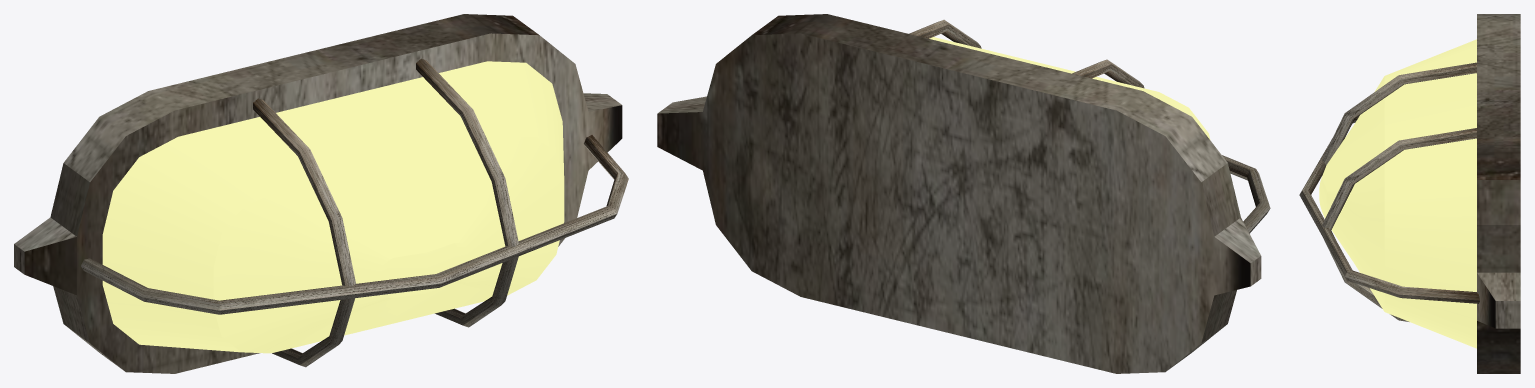
The model's file is luz_pared.fbx.
3 views of the same model, side by side, from view 1: azimuth 30°, elevation 25°; view 2: azimuth 150°, elevation 25°; view 3: azimuth 270°, elevation 25° (orthographic). The views are drawn at different scales.
Visible parts, largest first — view 1: luz, soporte_luz; view 2: soporte_luz, luz; view 3: luz, soporte_luz.
Boxes of the visible parts, <box> form: luz: <box>102,61,564,353</box>; soporte_luz: <box>14,14,628,373</box>; soporte_luz: <box>657,14,1270,373</box>; luz: <box>929,37,1210,139</box>; luz: <box>1319,39,1476,348</box>; soporte_luz: <box>1299,14,1520,373</box>.
Size of the model in its own units: 34.79 by 14.76 by 13.67.
